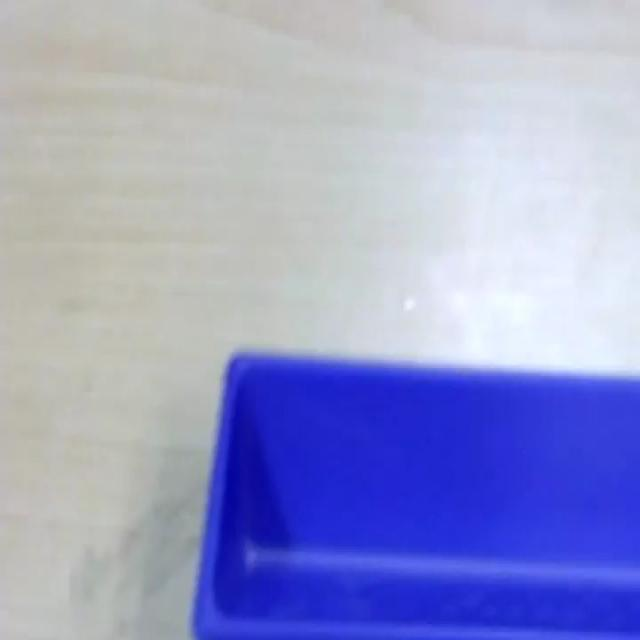blue_block: (189, 347, 639, 637)
